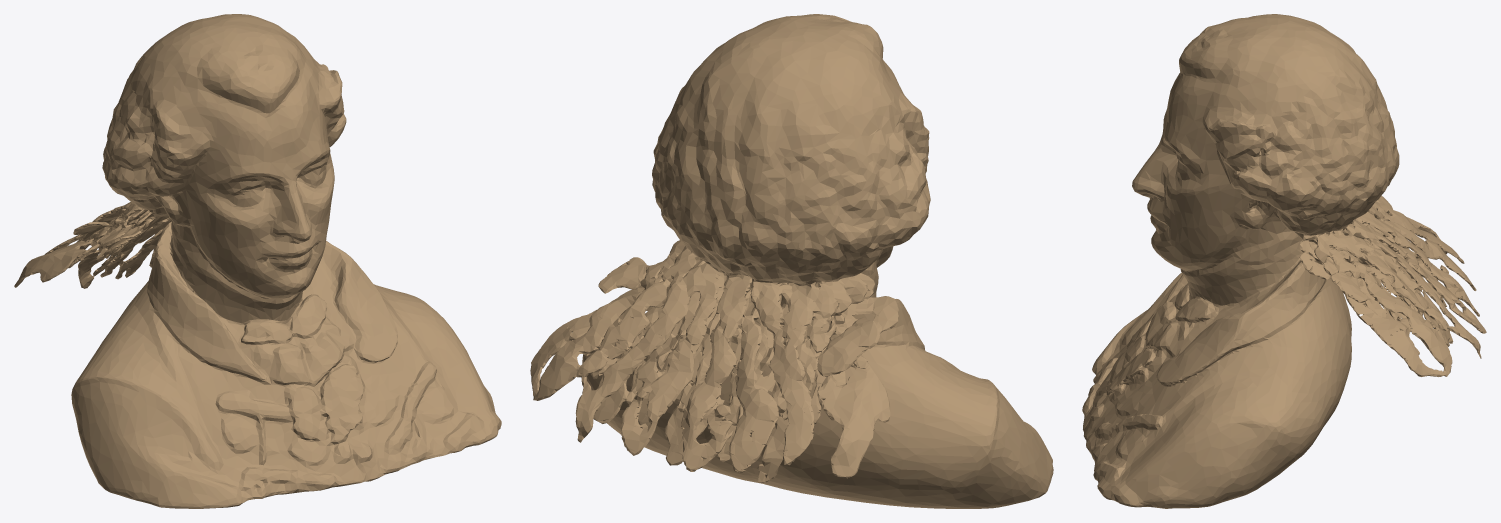
Rendered from kant_good.glb.
3 views of the same model, side by side, from view 1: azimuth 30°, elevation 25°; view 2: azimuth 150°, elevation 25°; view 3: azimuth 270°, elevation 25° (orthographic). The views are drawn at different scales.
Visible parts, largest first — view 1: Node1; view 2: Node1; view 3: Node1.
Boxes of the visible parts, <box> form: Node1: <box>14,14,501,508</box>; Node1: <box>530,14,1053,508</box>; Node1: <box>1082,14,1486,508</box>.
Bounding box in the file's own units: 1.96 × 1.96 × 1.85.
